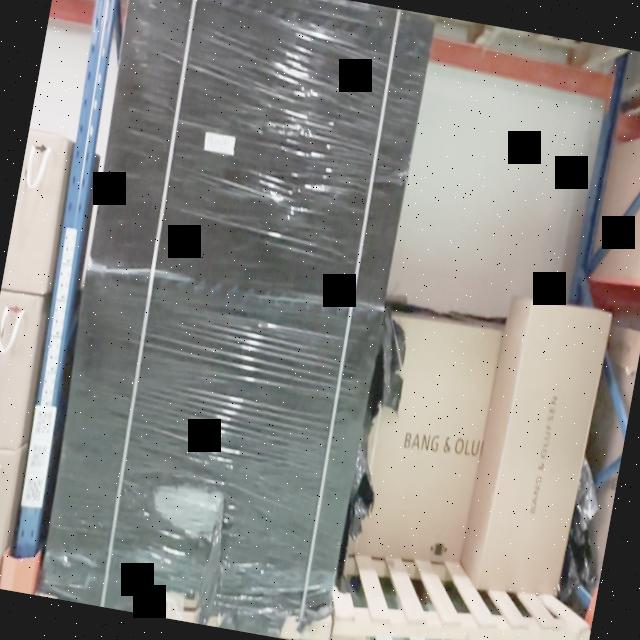box: (39, 277, 388, 604), (91, 0, 435, 296), (478, 301, 615, 594)
